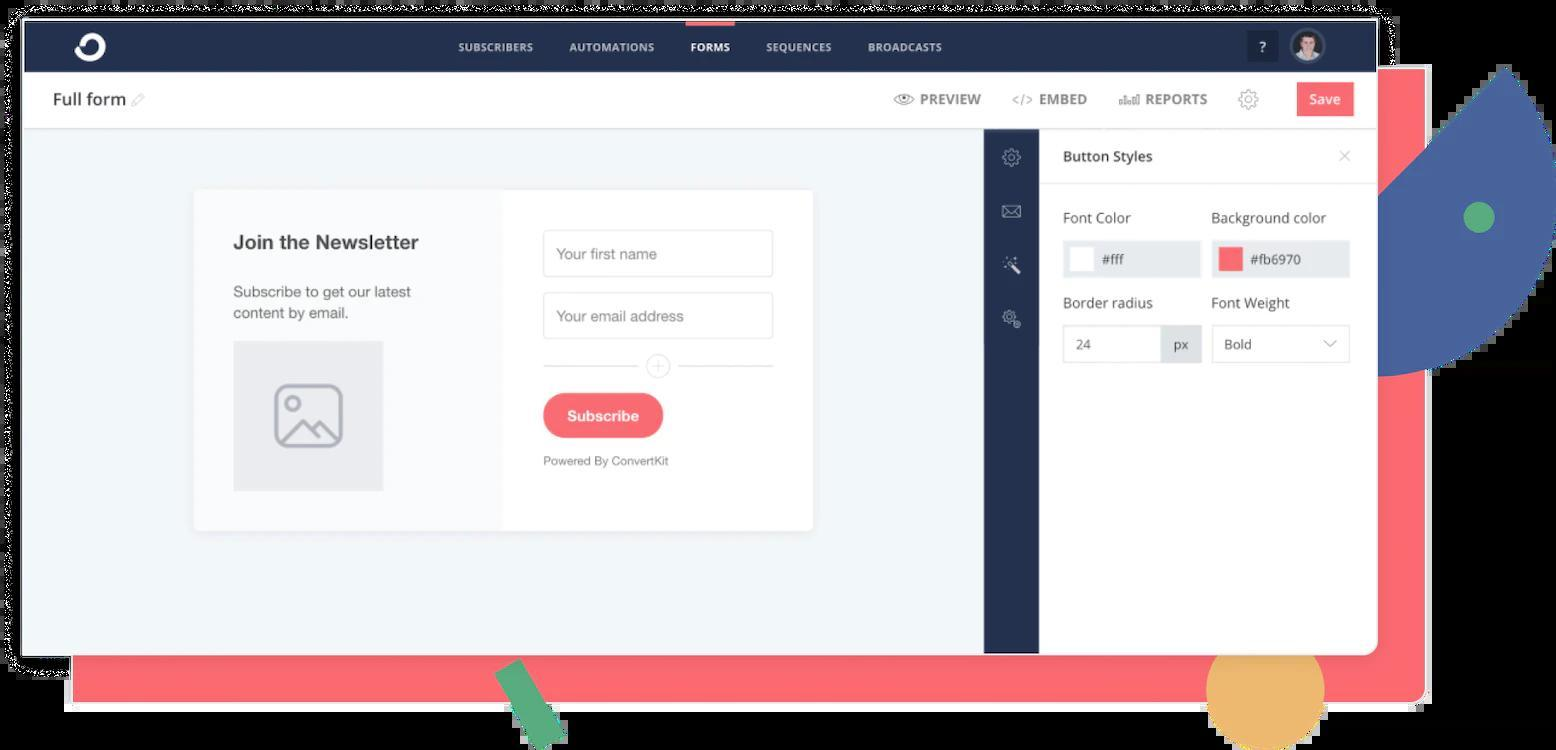button: (542, 393, 666, 440), (1297, 82, 1355, 117)
dropdown: (1213, 324, 1351, 364)
icon: (1252, 32, 1279, 63), (999, 308, 1024, 336), (645, 355, 673, 380), (999, 201, 1029, 224), (1238, 88, 1262, 115), (999, 258, 1027, 281), (1001, 145, 1026, 170), (1117, 93, 1144, 111), (895, 93, 918, 111), (1012, 92, 1036, 108), (1337, 149, 1353, 165)
input: (544, 232, 774, 278), (545, 293, 774, 339), (1063, 325, 1161, 363)
label: (1213, 211, 1327, 226), (1211, 295, 1296, 314), (1145, 91, 1208, 109), (1064, 212, 1133, 228), (919, 93, 983, 108), (1040, 92, 1094, 108)
